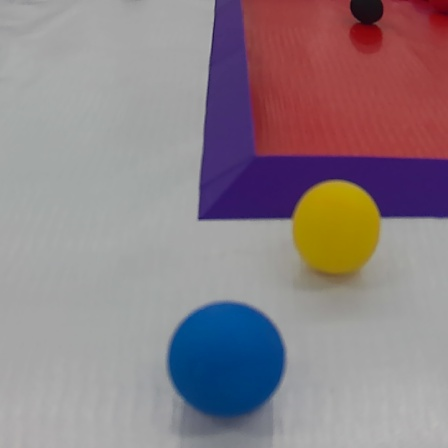black: (344, 0, 390, 29)
blue: (167, 299, 291, 423)
red_aim: (189, 0, 448, 239)
yellow: (277, 176, 384, 279)
